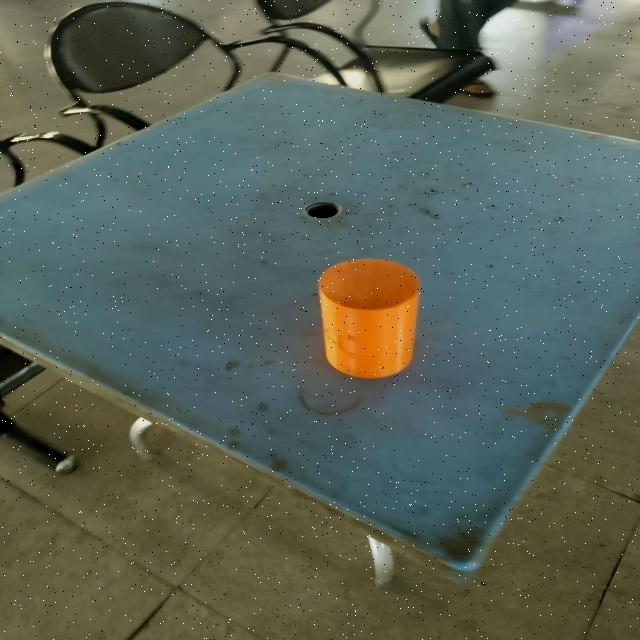Cylinder: (318, 257, 422, 379)
